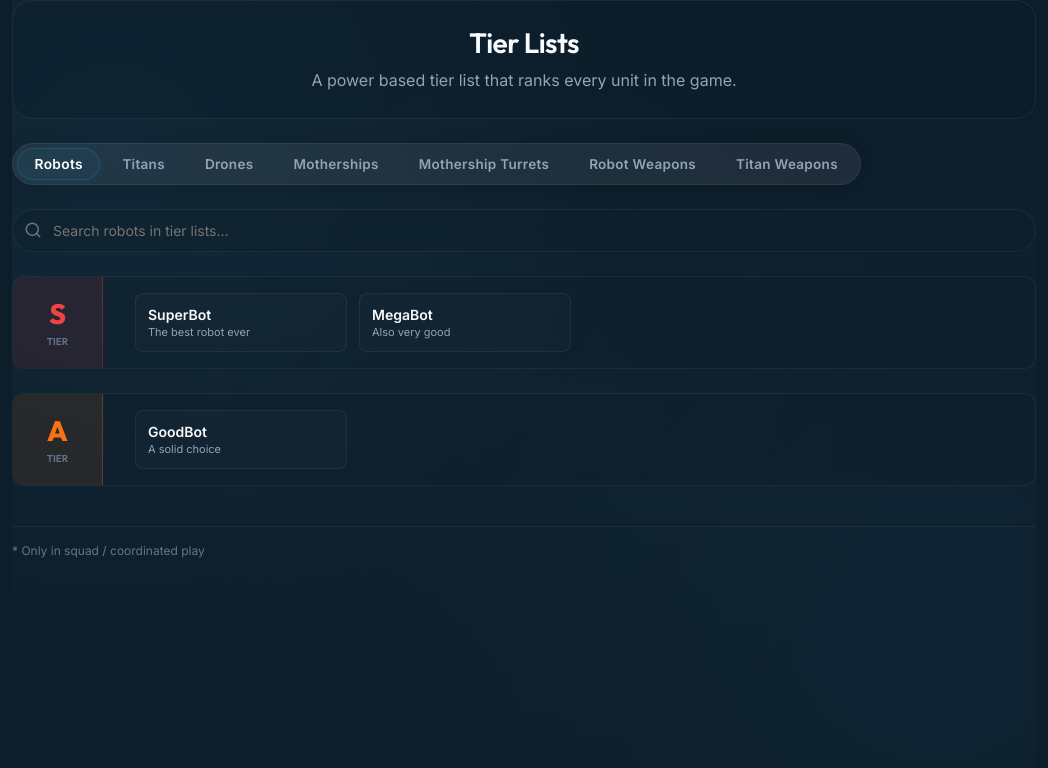
Test case: TierListTab › filters items by description as well
Type "solid choice" into the field with placeholder "Search robots in tier lists...". click: (524, 230)
box: x1=12 y1=209 x2=1036 y2=252
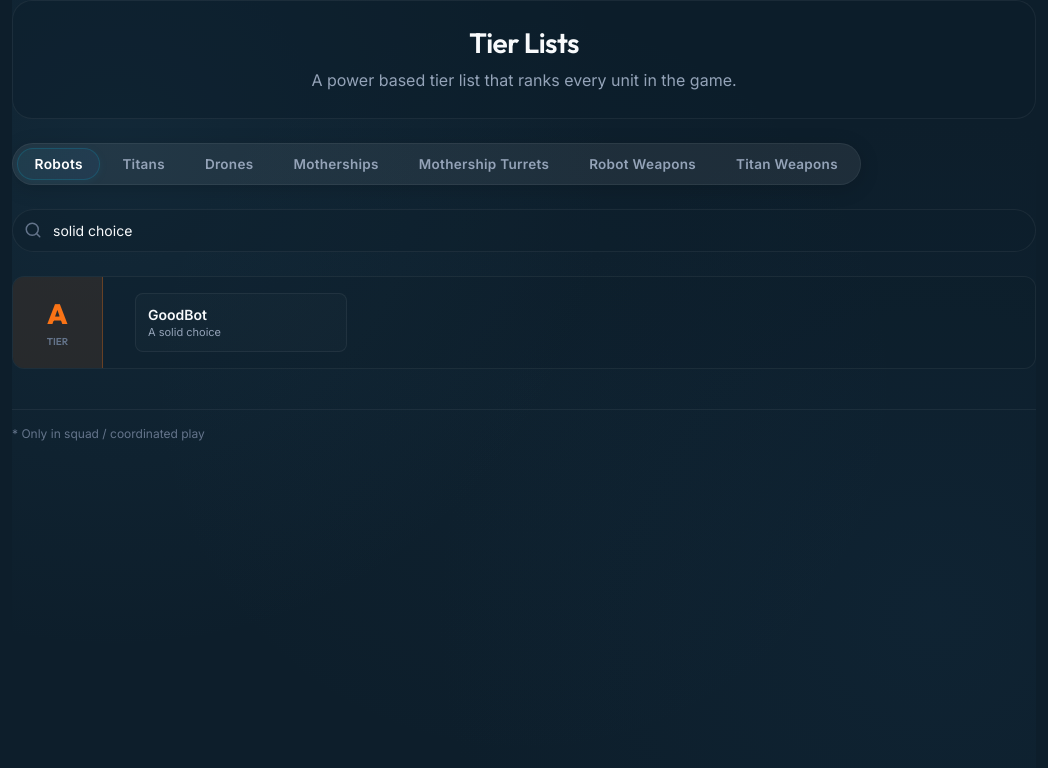
Expected: the text "GoodBot" is shown, x1=148 y1=306 x2=207 y2=323
Expected: the text "SuperBot" is gone
Expected: the text "MegaBot" is gone
